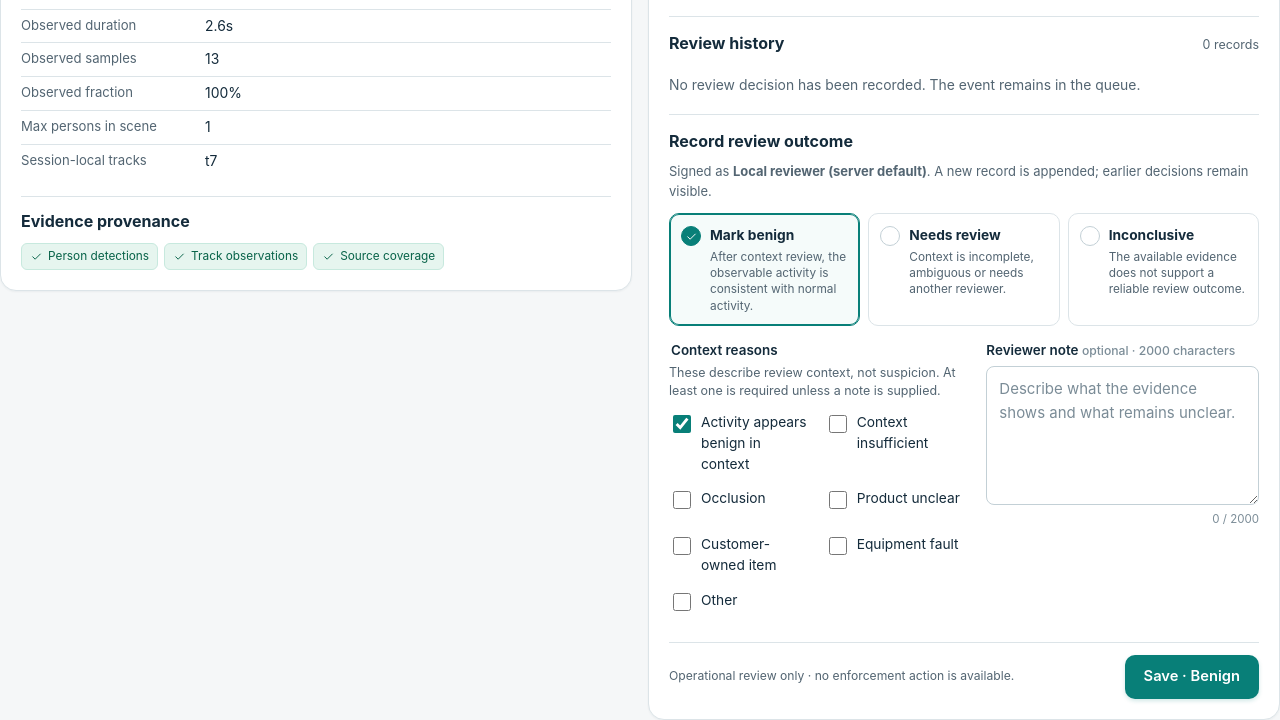
Test: EventDetailPanel › refuses to submit with no reason codes and no note
(page scrolled)
Click the checkbox labelled "Activity appears benign in context" at (682, 424), box [673,415,691,433]
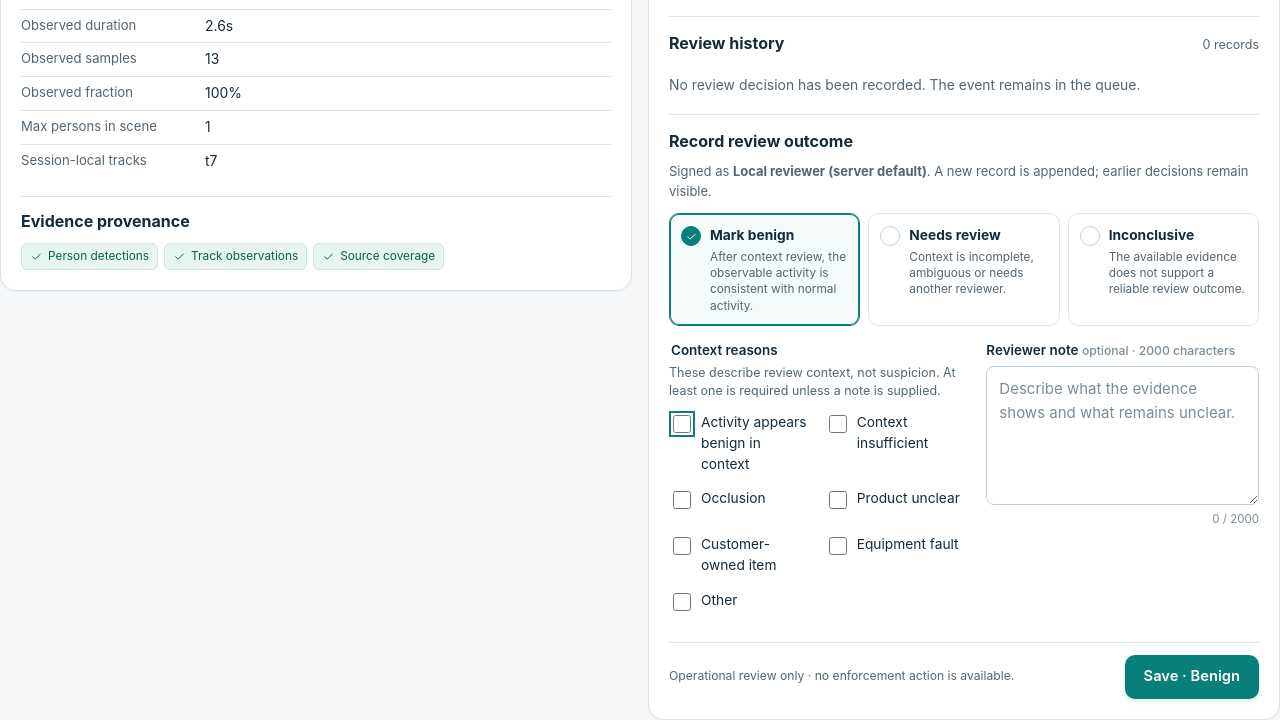
Click the button "Save · Benign" at (1192, 677), box [1125,655,1259,699]
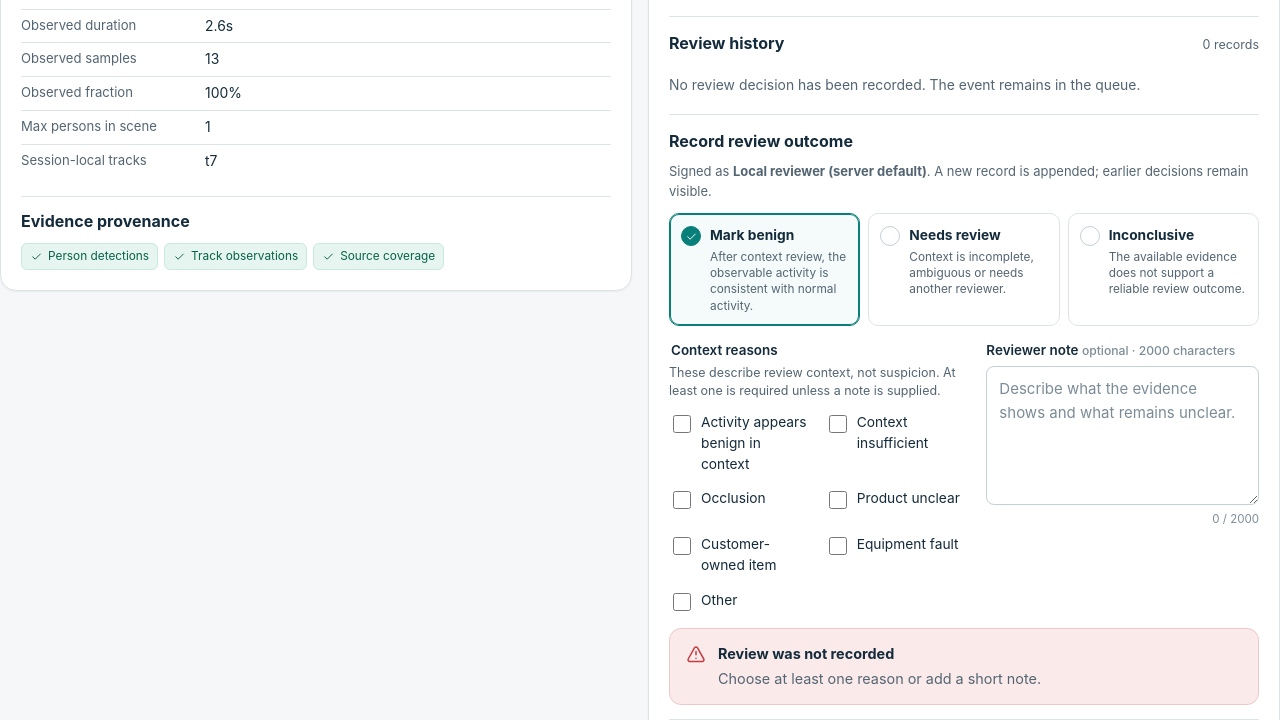
Expected: the text "Choose at least one reason or add a short note." is shown, [718,670,1041,687]
